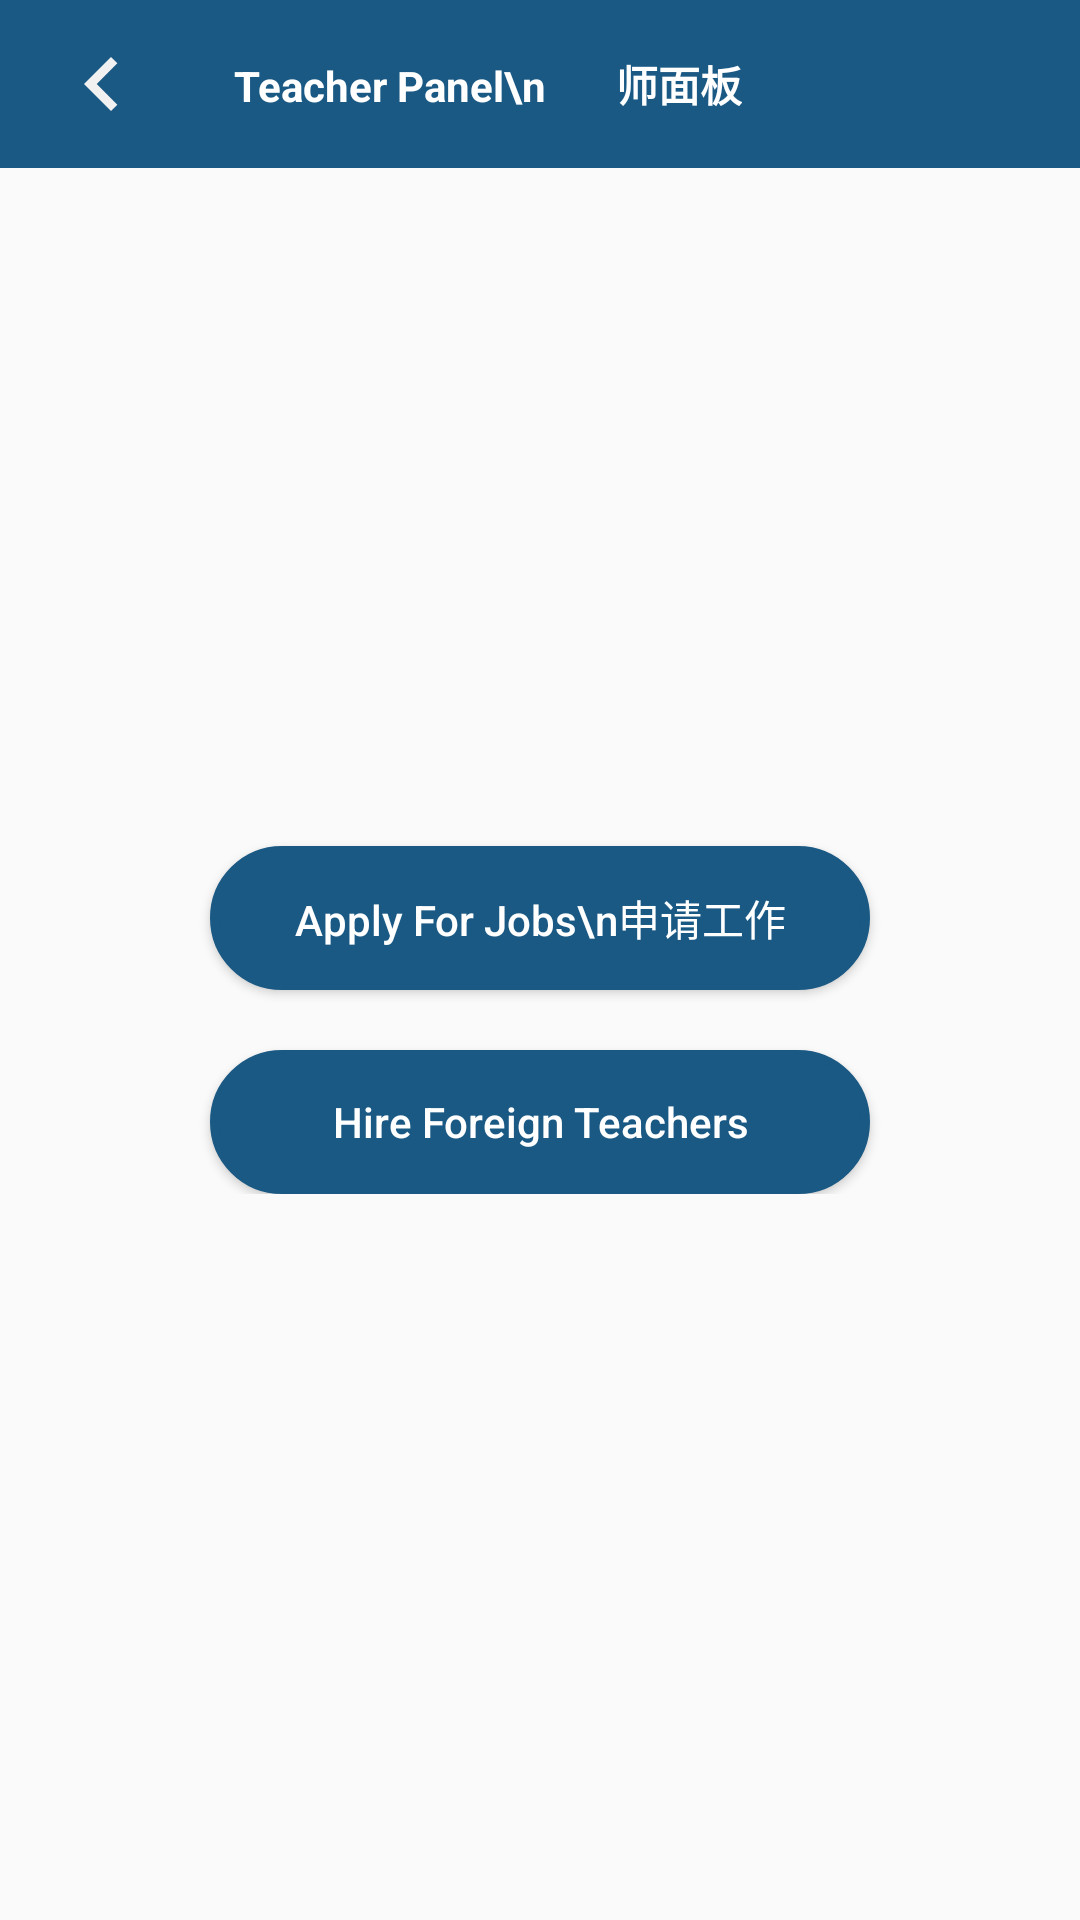

Screen size 1080px x 1920px. Icon name, then its center in pixels as (x=x, y=y):
navigate before: (x=101, y=84)
